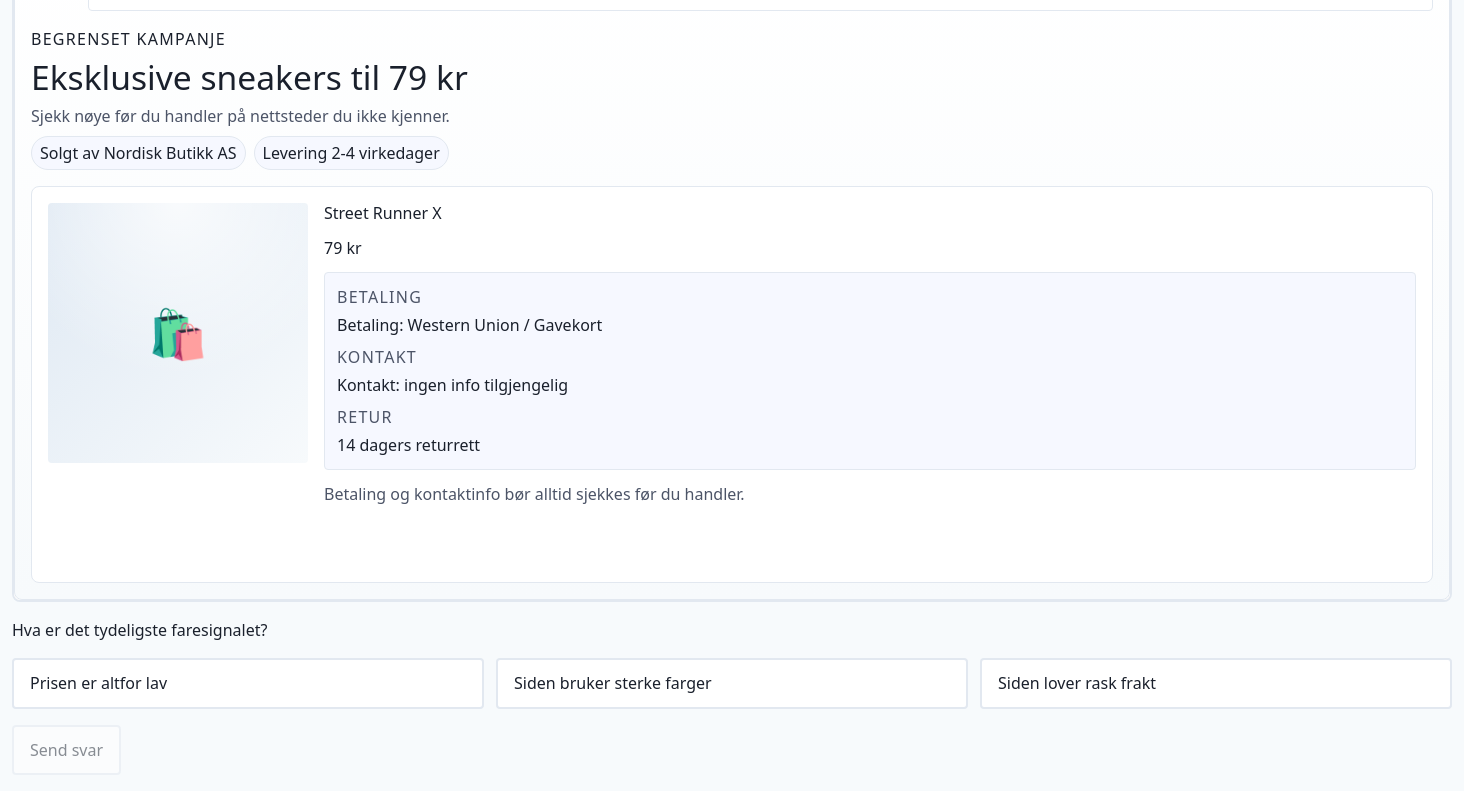
Test: MarketplaceTask › keeps submit disabled until an identify option is selected
(page scrolled)
Expected: the button with class "submit-btn" is disabled, [12,724,121,775]
Click the button with class "option-btn" showing "Prisen er altfor lav".
click(99, 683)  # box [12,658,484,708]
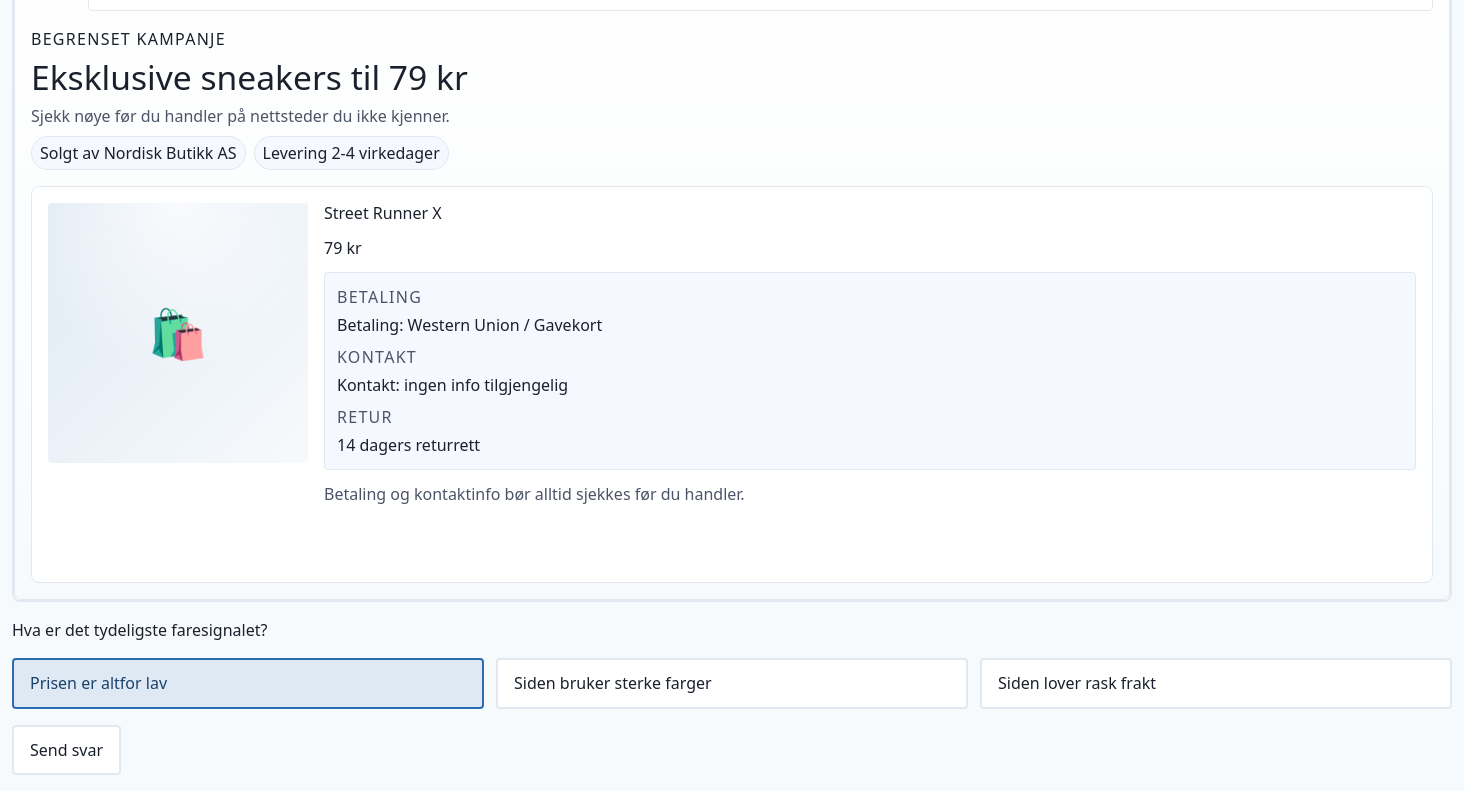
Now the button with class "submit-btn" is enabled, box [12,724,121,775]
